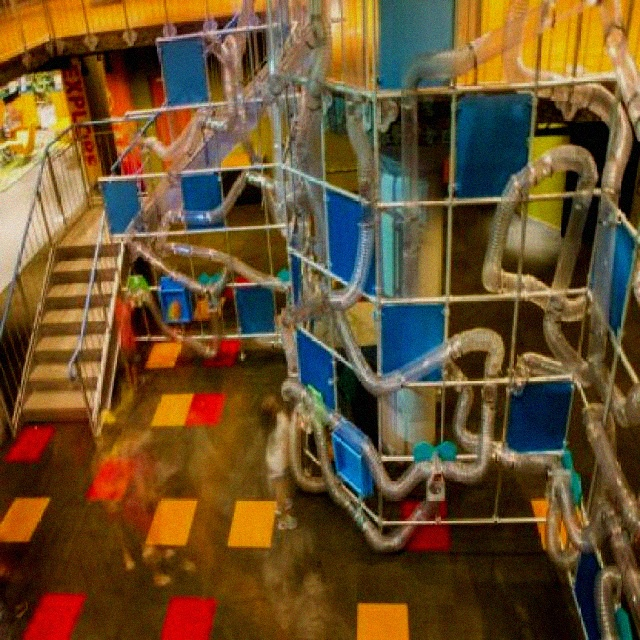stair: (20, 239, 128, 436)
